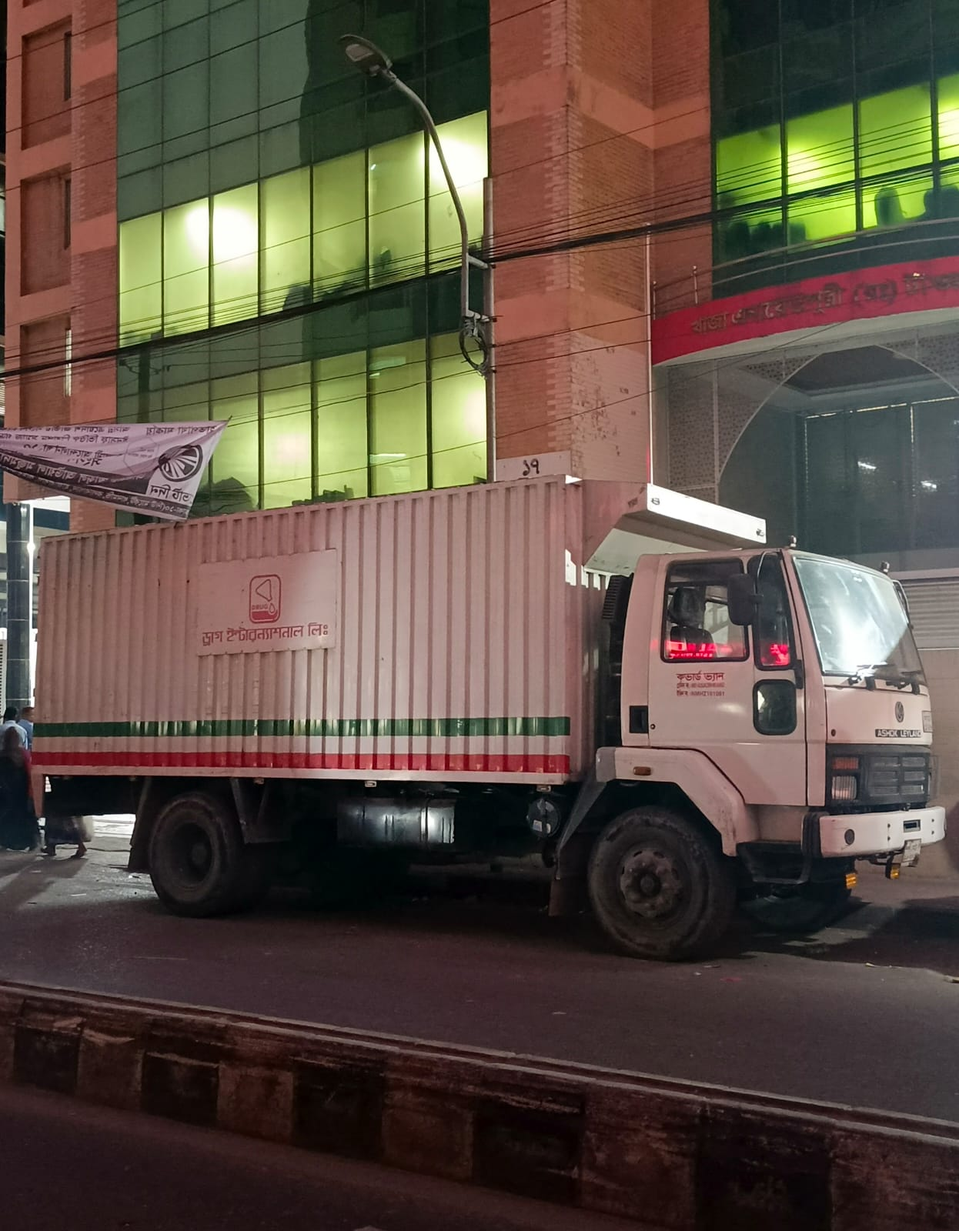Truck: (0, 457, 959, 938)
